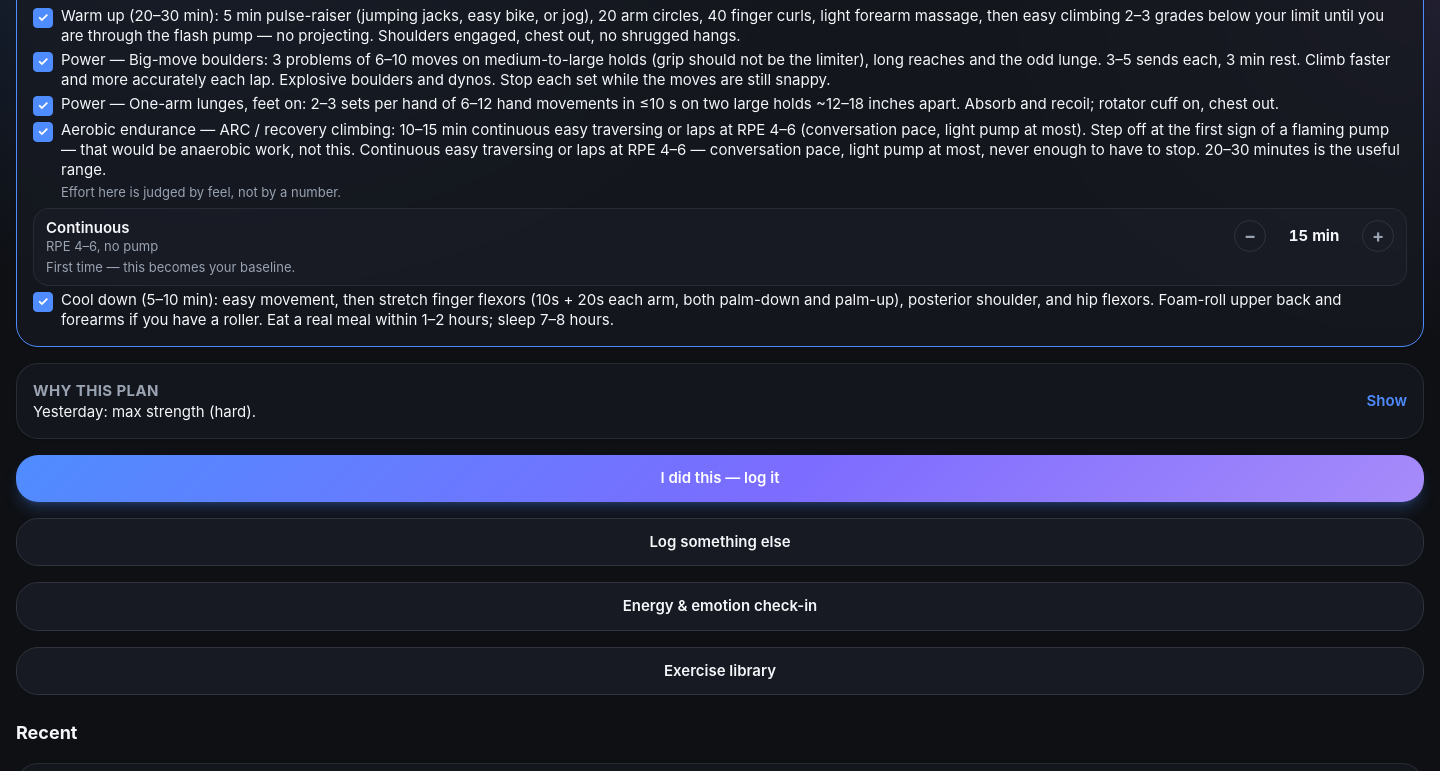
Test case: TrainHome — recovery is visible › names yesterday’s session in the why panel
(page scrolled)
Click the button "Why this plan Yesterday: max strength (hard). Show". click: (96, 390)
box: [33,380,1407,422]
(page scrolled)
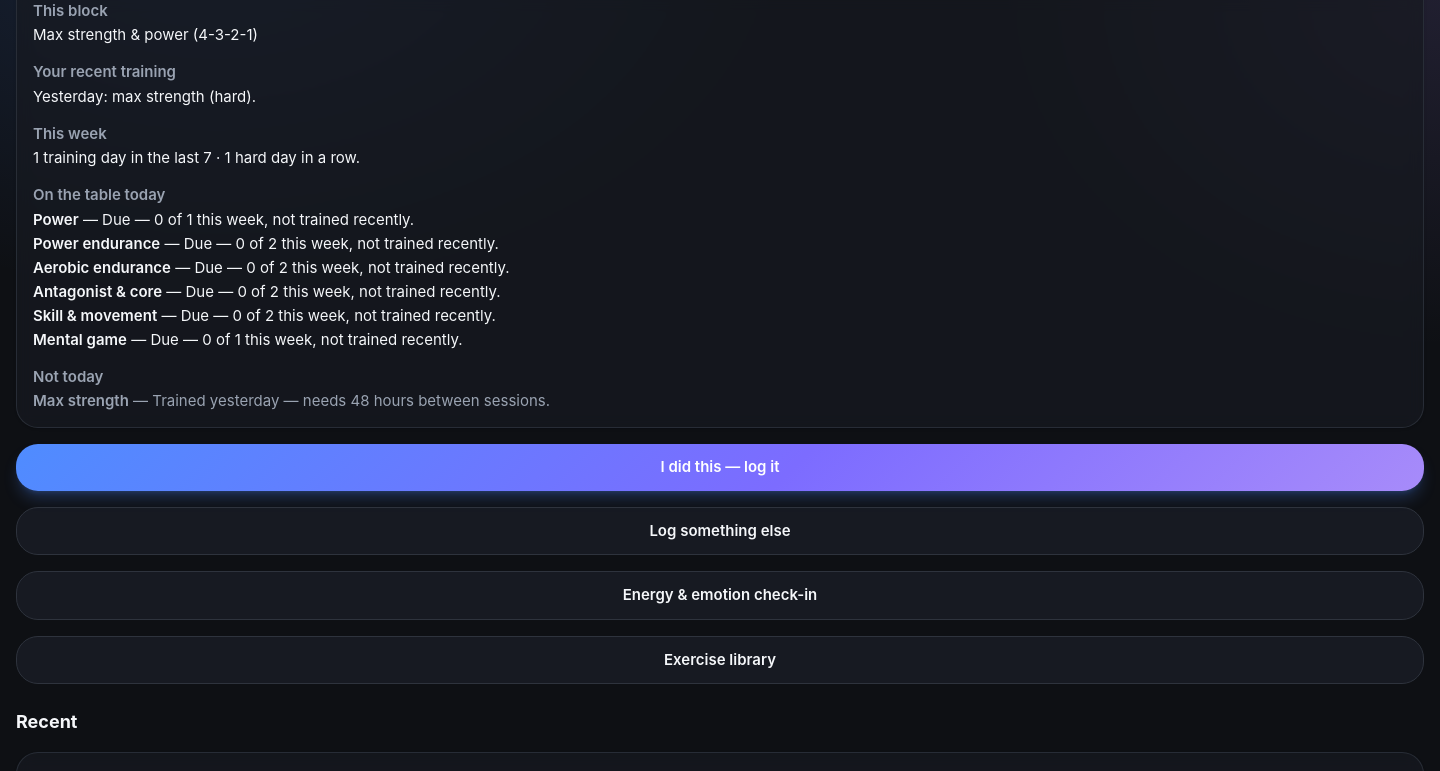
Expected: the text "Yesterday: max strength (hard)." is shown, [33,87,256,106]
Expected: the text "48 hours" is shown, [152,391,550,410]
